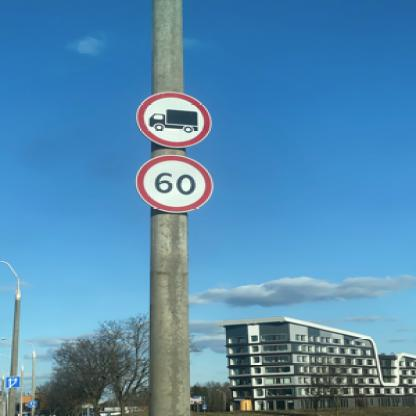speedlimit: (133, 153, 212, 210)
